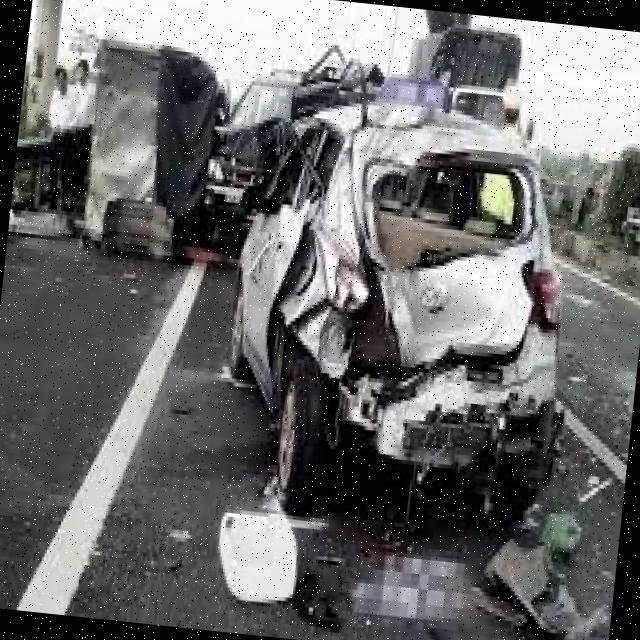accident: (48, 19, 608, 540)
